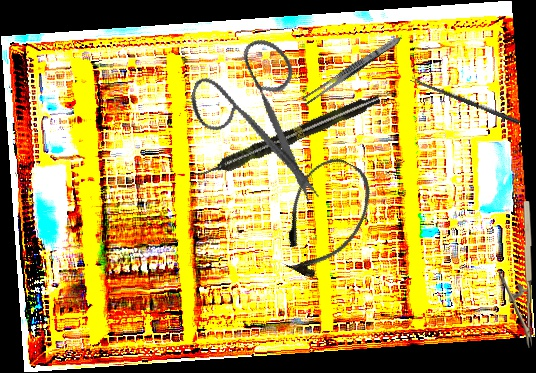Cannula: (264, 148, 384, 288)
Dressing Forceps: (299, 32, 404, 109)
Handpiece: (192, 90, 383, 185)
Iris Scissors: (170, 23, 363, 207)
Needle Holder: (497, 200, 535, 349)
Surgical Spoon: (410, 76, 521, 125)
